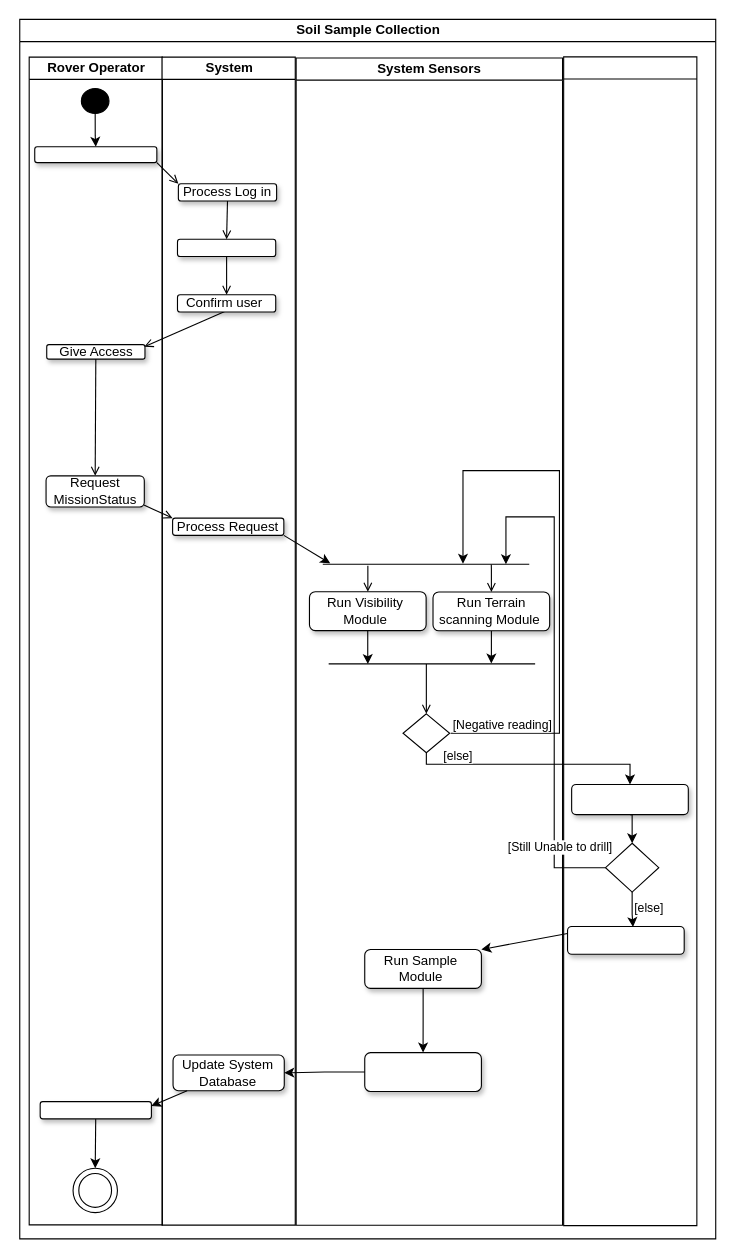
The diagram is 735 pixels wide and 1259 high, and some of its shapes have lost their labels. The centre of each missing label's shape, as x and y in pixels:
Analyze Sample: (423,1073)
Collect Sample: (626,941)
Drill: (630,800)
Hardware Module: (630,641)
Receive Soil data: (96,1111)
Request Log In: (96,155)
Verify Log in: (227,249)
